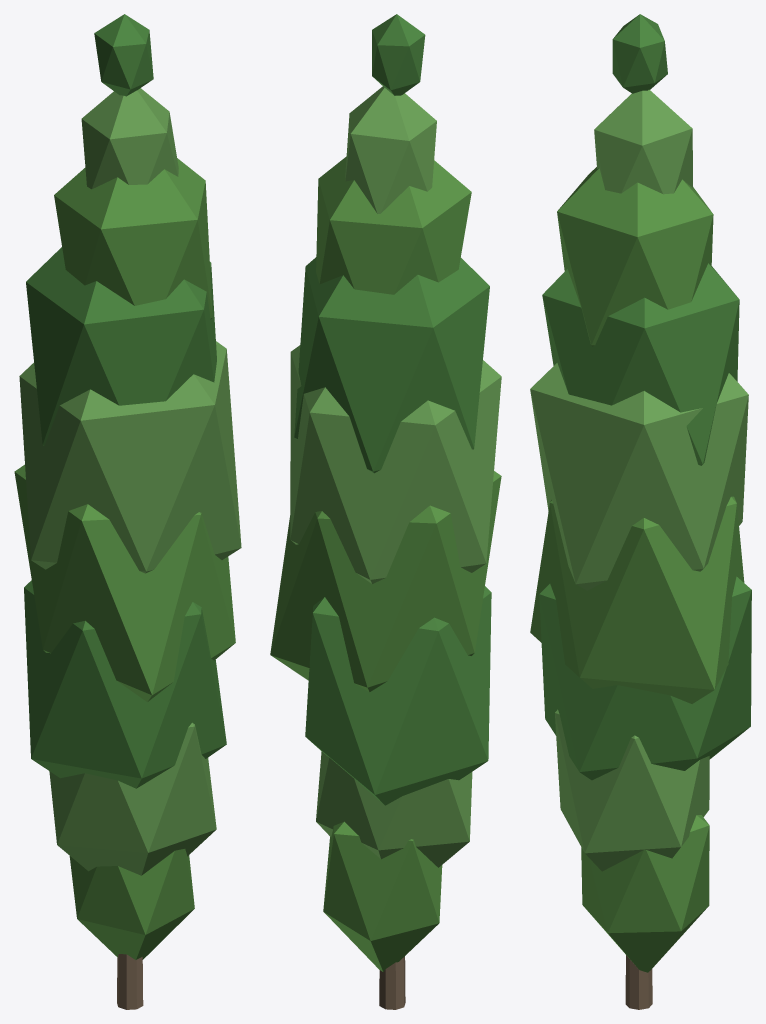
Rendered from poplar.glb.
3 renders of one model, left to right at view 1: azimuth 30°, elevation 25°; view 2: azimuth 150°, elevation 25°; view 3: azimuth 270°, elevation 25°, orthographic.
Visible parts, largest first — view 1: poplar; view 2: poplar; view 3: poplar.
Boxes of the visible parts, x1,y1,x2,y2 form: poplar: [14, 14, 241, 1009]; poplar: [270, 14, 501, 1009]; poplar: [530, 14, 751, 1009].
Size of the model in its own units: 3.67 by 17.68 by 3.6.
